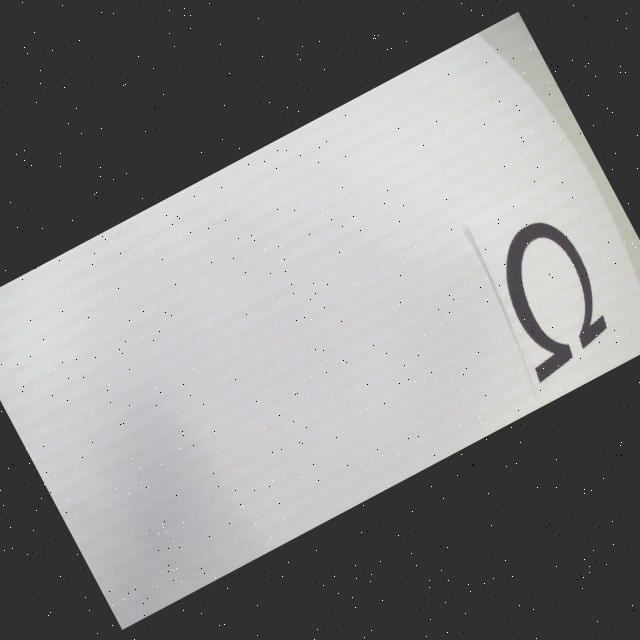OMEGA: (472, 208, 624, 382)
